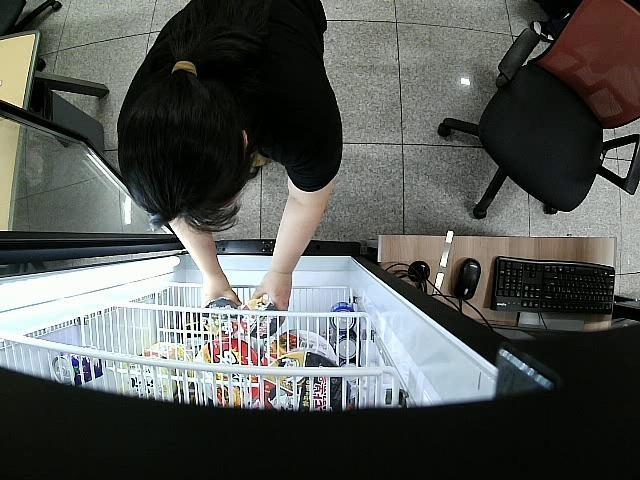08_buldak_S: (237, 294, 281, 335), (202, 300, 244, 337)
